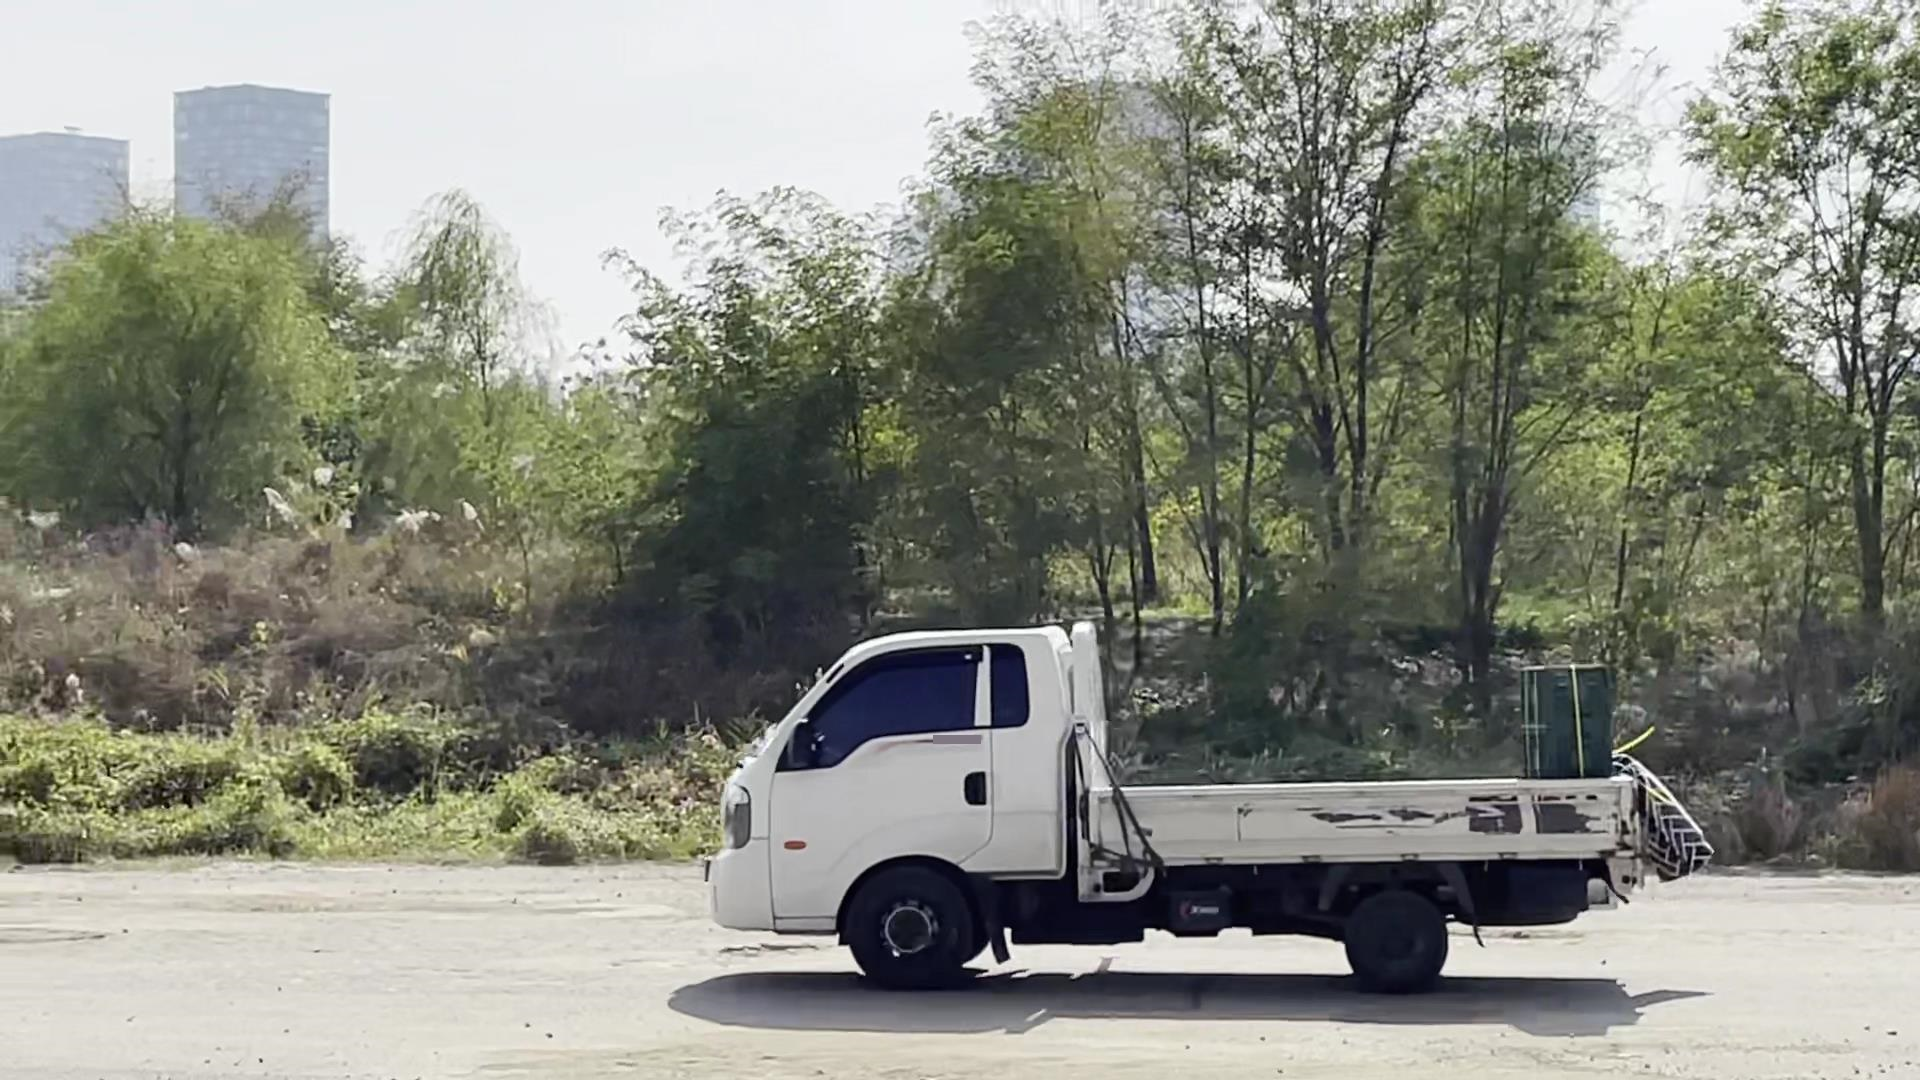불법차량: (704, 621, 1716, 994)
